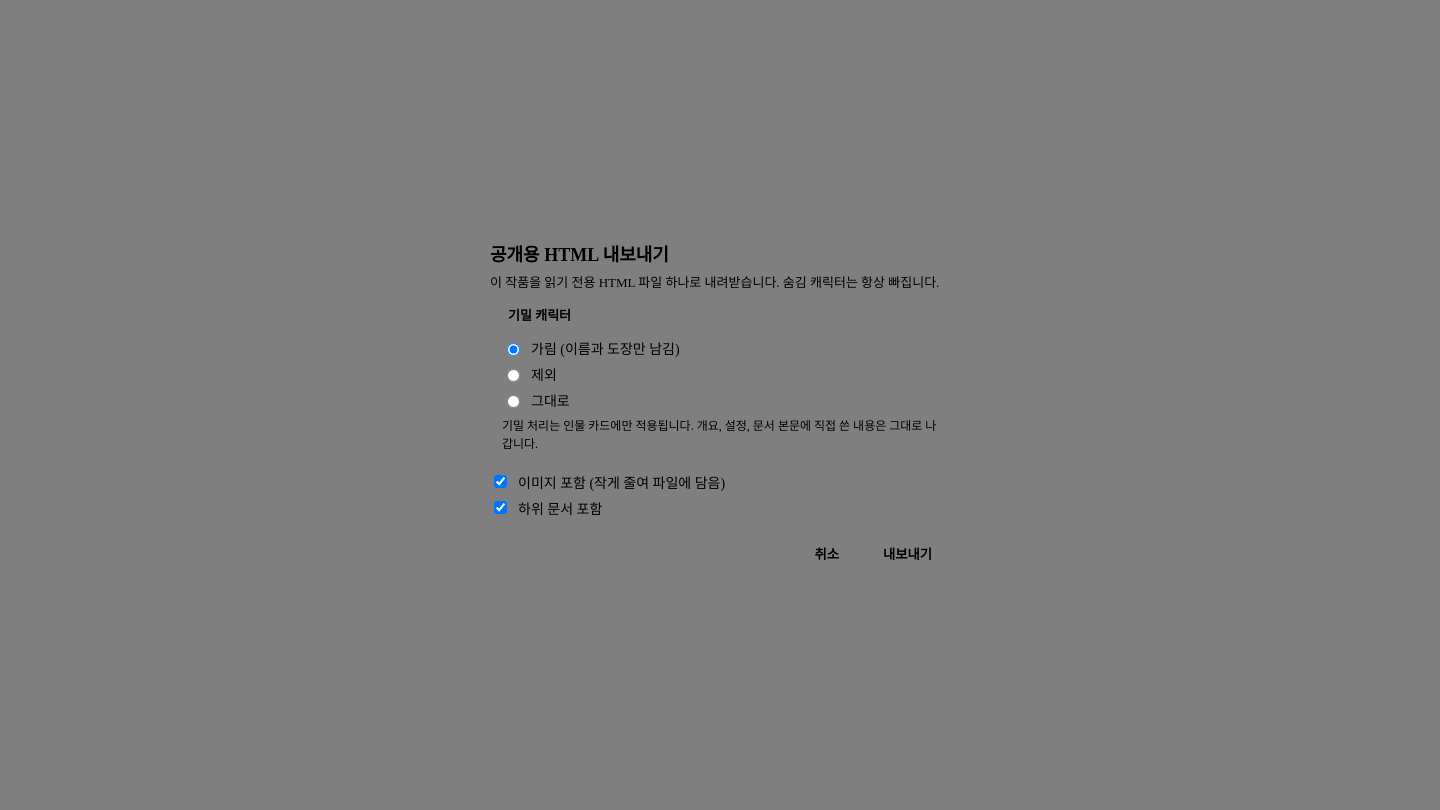
ExportDialog › 실패하면 닫지 않고 오류 안내를 보여 주며 다시 시도할 수 있다
What coordinates should you click on to do the following:
click the button "내보내기"
I would click on:
 (907, 553)
Its box is [865,536,950,570].
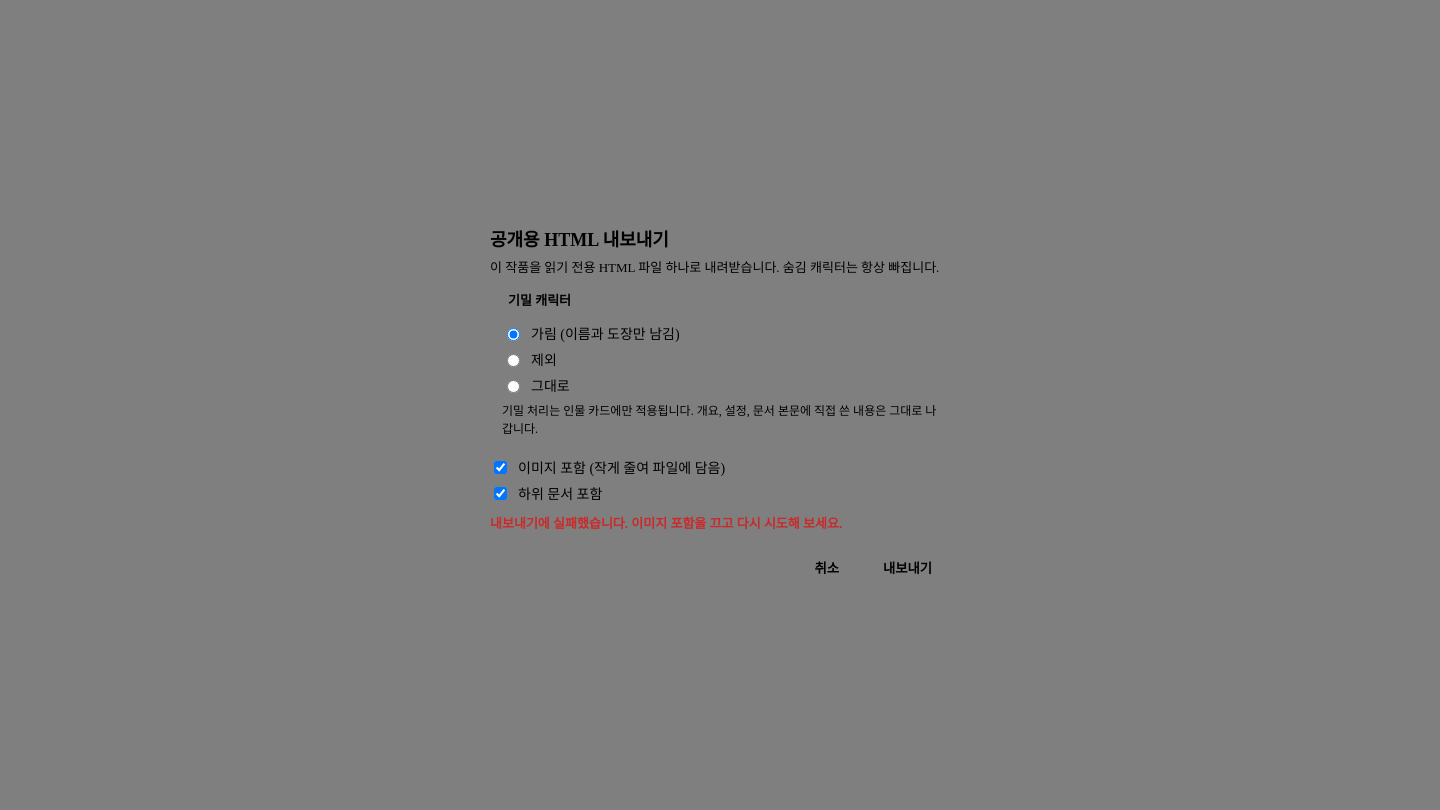
Expected: the button "내보내기" is enabled, [865,550,950,585]
Expected: the message "내보내기에 실패했습니다. 이미지 포함을 끄고 다시 시도해 보세요." is shown, [490,516,842,531]
